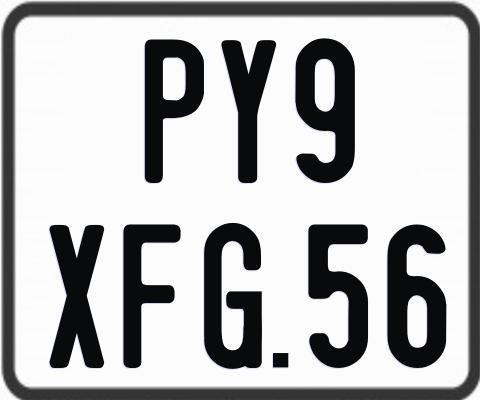5: (307, 223, 368, 372)
6: (384, 222, 447, 370)
9: (294, 36, 354, 186)
F: (120, 222, 178, 371)
G: (201, 223, 263, 369)
P: (142, 38, 204, 186)
X: (48, 224, 109, 369)
Y: (221, 40, 279, 183)
